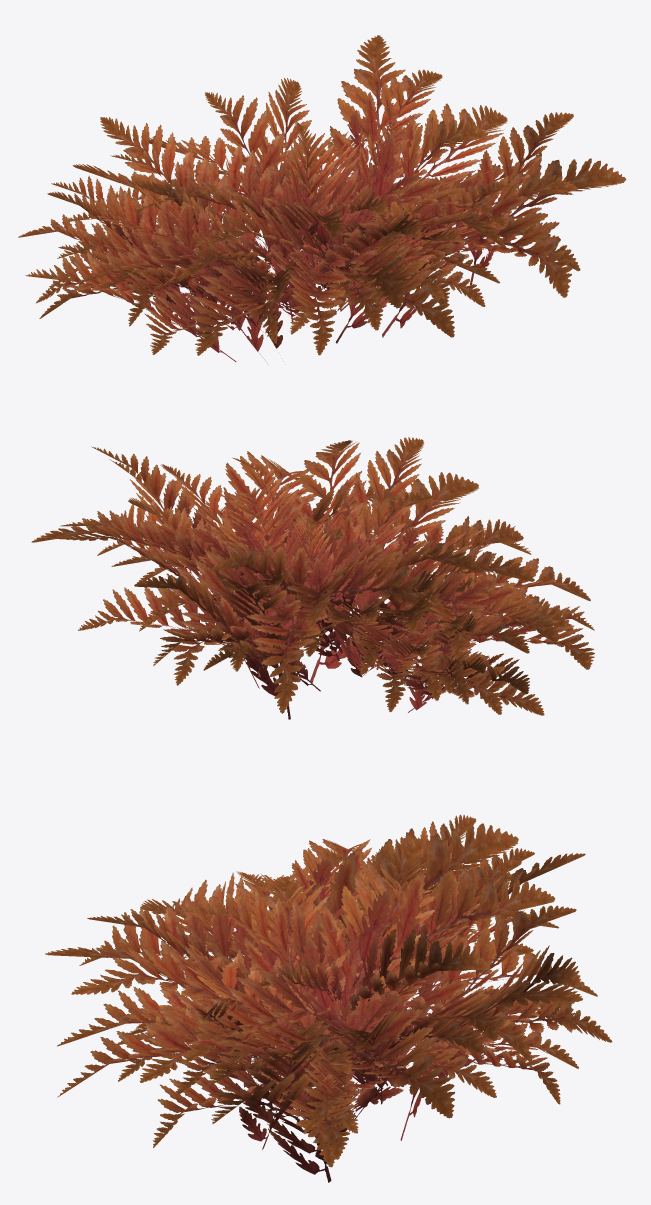
File: Vegetation_Cao02.glb
The picture shows the model from 3 angles, top to bottom: view 1: azimuth 30°, elevation 25°; view 2: azimuth 150°, elevation 25°; view 3: azimuth 270°, elevation 25°; orthographic projection. The views are drawn at different scales.
Visible parts, largest first — view 1: xiutz_cao_02; view 2: xiutz_cao_02; view 3: xiutz_cao_02.
Part boxes in pixels (box(x1,y1,x2,y2)): xiutz_cao_02: box(18, 35, 626, 363); xiutz_cao_02: box(31, 437, 594, 719); xiutz_cao_02: box(45, 814, 612, 1182).
Size of the model in its own units: 6.57 by 2.46 by 5.
Materials: 1 (1 with a texture image).
